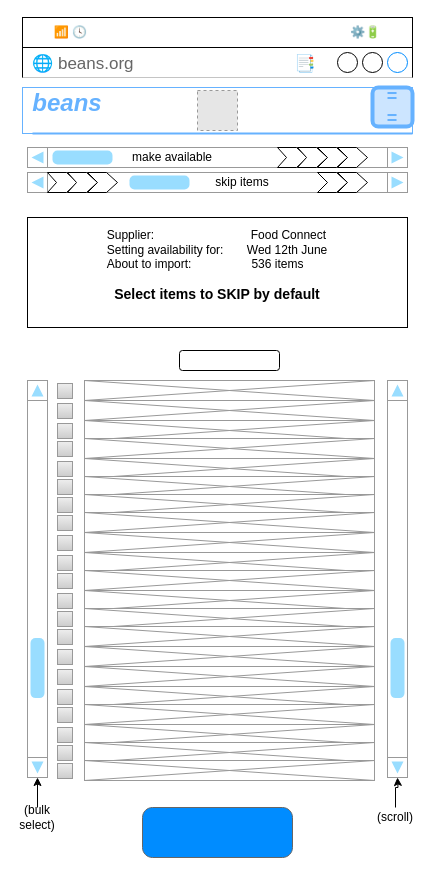
Some shapes in this 432 by 875 pixel diagram are drawn without their labels. Grey dashed boxes stand in for pictures. Each missing label, with the box of its shape:
Items: (178, 350, 280, 370)
Next: (142, 806, 292, 858)
